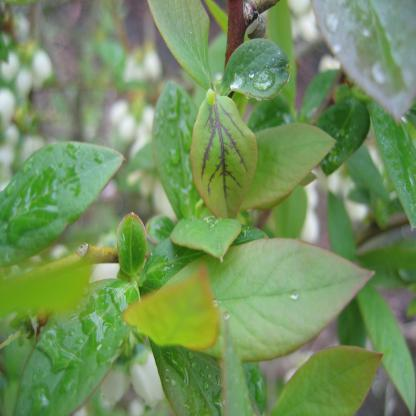blueberry leaf: (164, 235, 394, 367), (0, 139, 139, 254), (232, 102, 364, 220), (185, 86, 258, 232), (149, 1, 219, 93), (116, 211, 150, 280)
